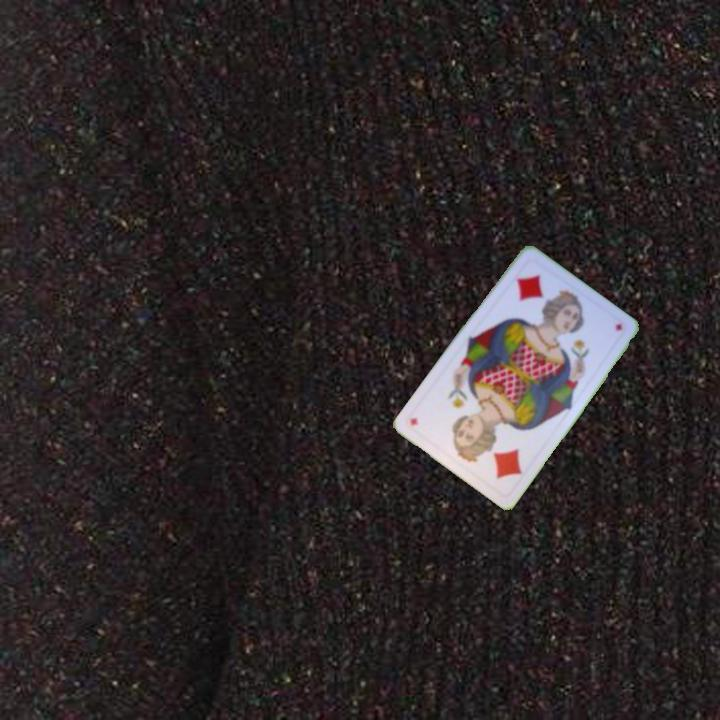d_q.png: (494, 254, 580, 338), (453, 414, 539, 498)
